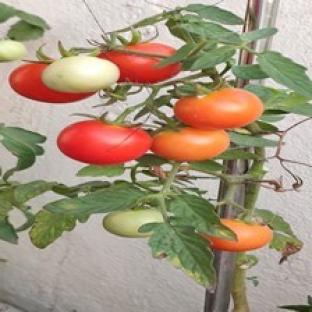Tomato: (58, 120, 151, 164), (175, 88, 264, 129), (9, 63, 94, 103), (99, 42, 181, 83), (42, 56, 119, 93), (151, 127, 229, 161), (201, 219, 272, 252), (102, 209, 162, 238), (0, 39, 26, 62)
